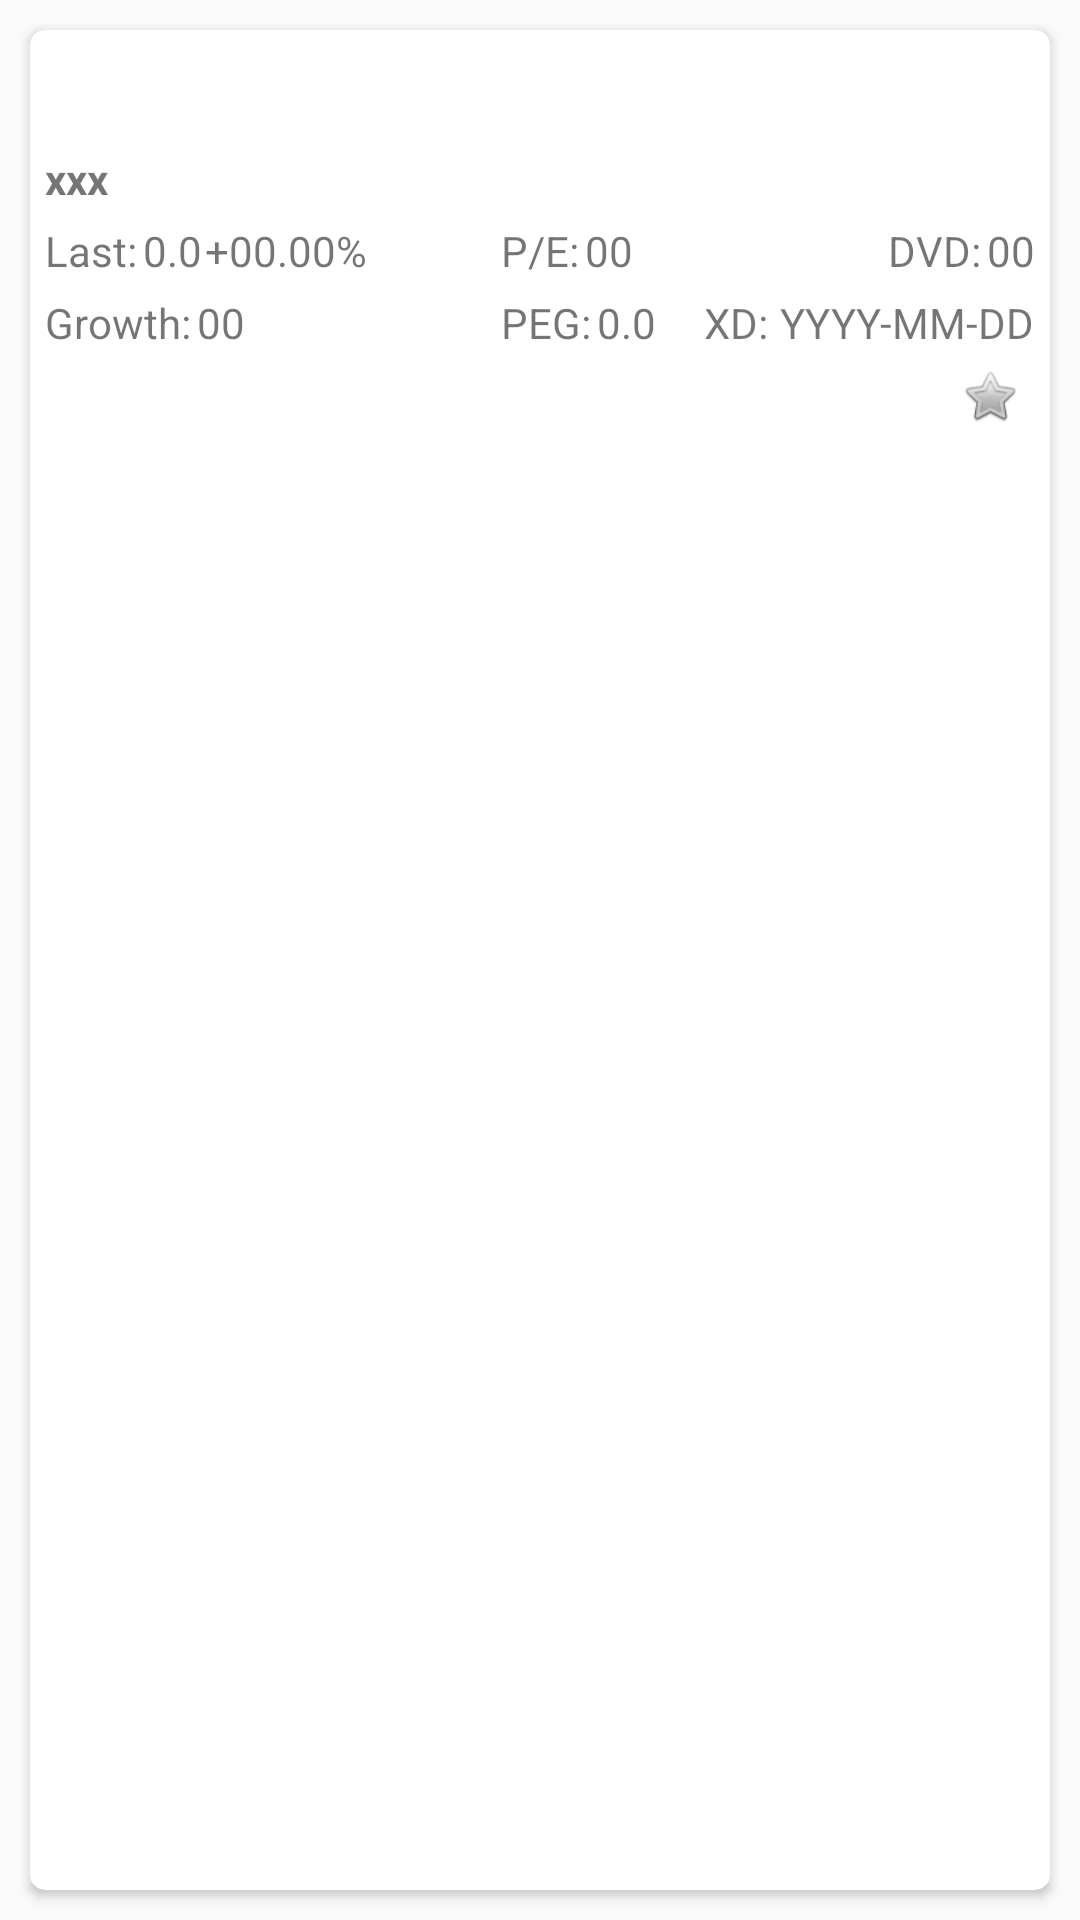

Screen size 1080w x 1920h. Icon name, then its box in pixels as (x1, y1, x2, y2):
star off: (965, 372, 1016, 421)
